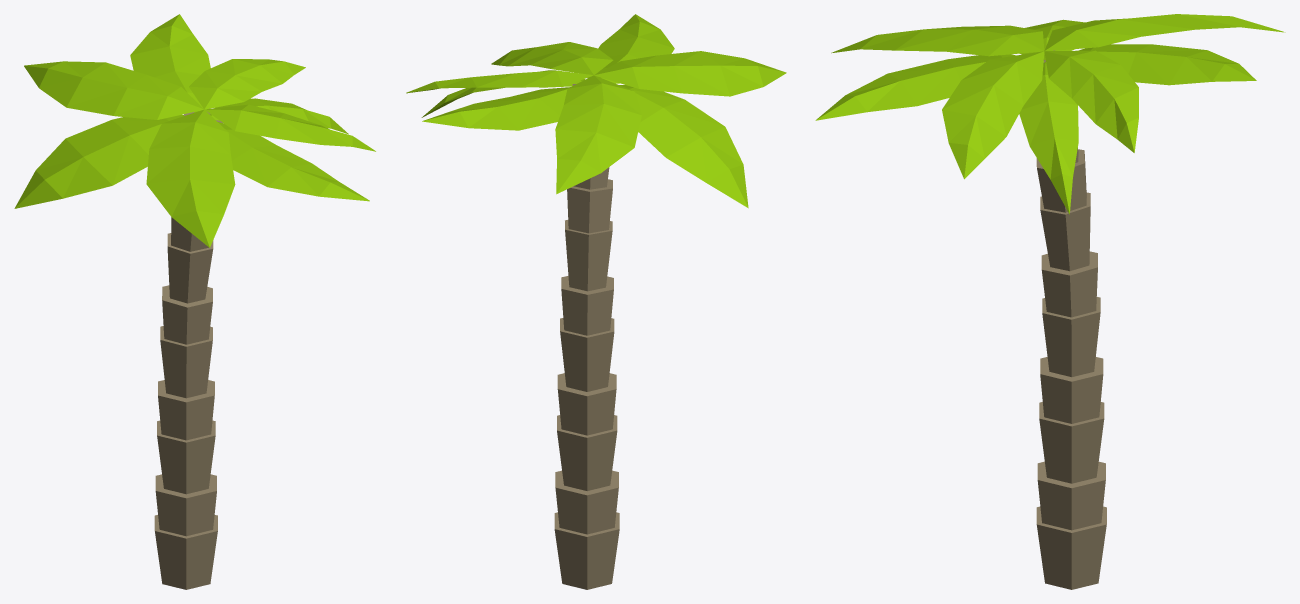
The model's file is palm5.fbx.
The picture shows the model from 3 angles, left to right: view 1: azimuth 30°, elevation 25°; view 2: azimuth 150°, elevation 25°; view 3: azimuth 270°, elevation 25°; orthographic projection. The views are drawn at different scales.
Visible parts, largest first — view 1: palm5; view 2: palm5; view 3: palm5.
Part boxes in pixels (x1,y1,x2,y2): palm5: [14, 14, 375, 589]; palm5: [406, 14, 786, 589]; palm5: [815, 14, 1285, 589].
Bounding box in the file's own units: 158 × 227 × 178.
